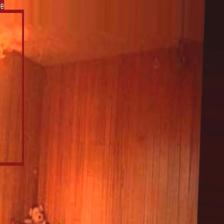fire: (0, 9, 23, 164)
